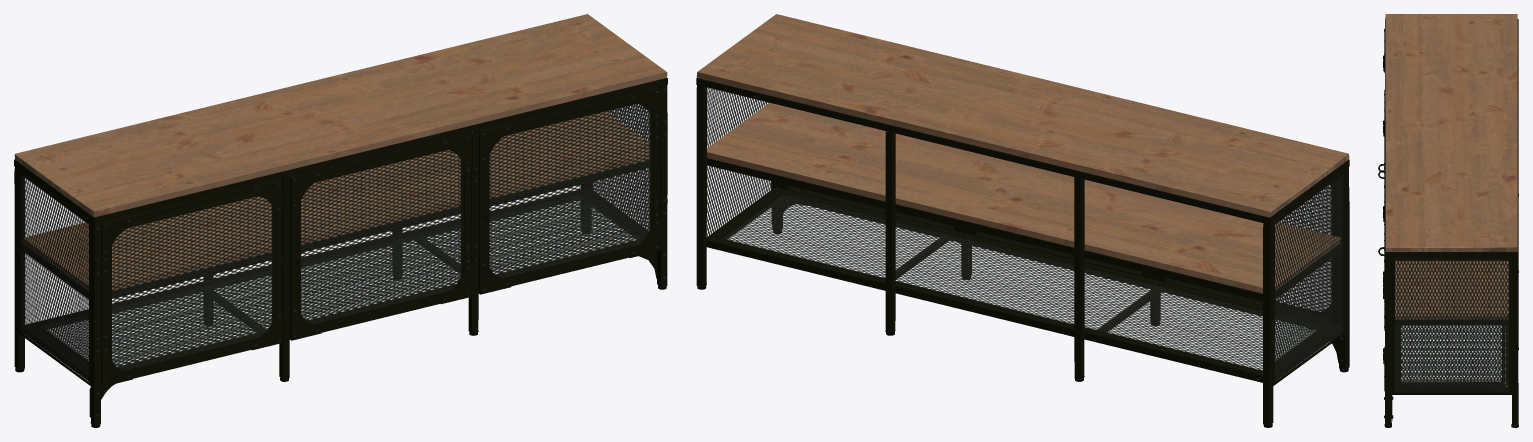
File: fjallbo-mueble-tv-negro-90339290.glb
3 renders of one model, left to right at view 1: azimuth 30°, elevation 25°; view 2: azimuth 150°, elevation 25°; view 3: azimuth 270°, elevation 25°, orthographic. The views are drawn at different scales.
Visible parts, largest first — view 1: 90339290-FJÃƒâ€žLLBO001; view 2: 90339290-FJÃƒâ€žLLBO001; view 3: 90339290-FJÃƒâ€žLLBO001.
Boxes of the visible parts, bbox=[...] form: 90339290-FJÃƒâ€žLLBO001: bbox=[14, 14, 667, 427]; 90339290-FJÃƒâ€žLLBO001: bbox=[696, 14, 1349, 427]; 90339290-FJÃƒâ€žLLBO001: bbox=[1378, 14, 1518, 427].
Bounding box in the file's own units: 1.49 × 0.5382 × 0.38.
Materials: 2 (2 with a texture image).
